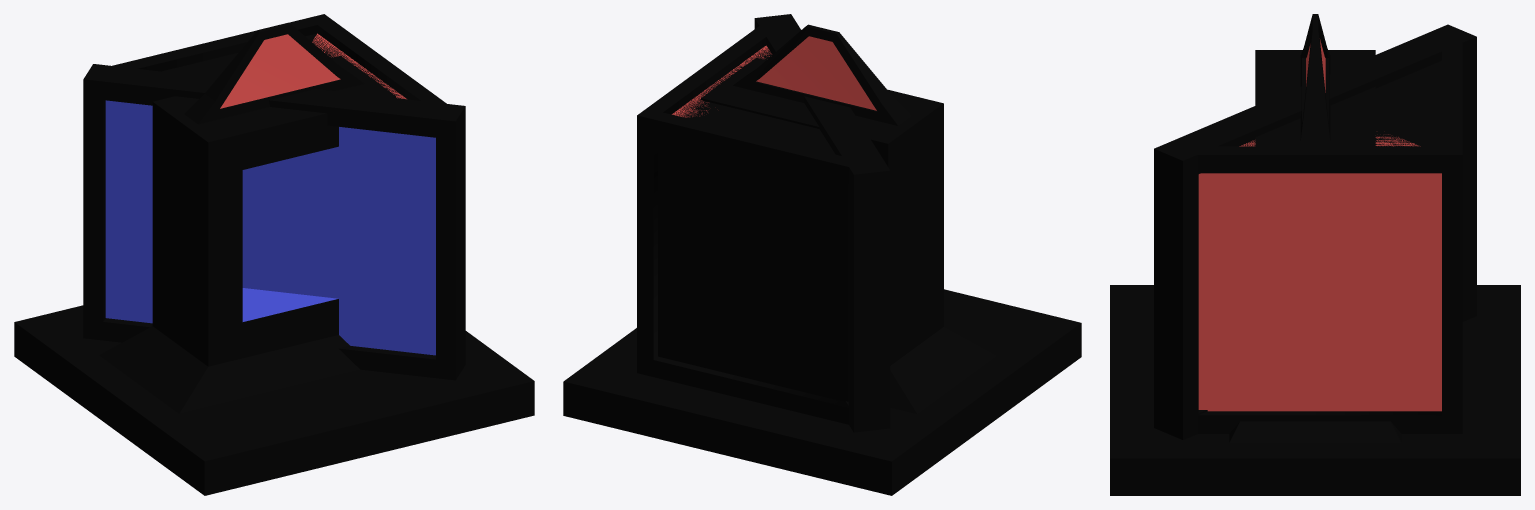
File: Lasers.fbx
3 views of the same model, side by side, from view 1: azimuth 30°, elevation 25°; view 2: azimuth 150°, elevation 25°; view 3: azimuth 270°, elevation 25° (orthographic). The views are drawn at different scales.
Parts seen in each view (by area): view 1: Double, Gate, MirrorReceiver, Mirror; view 2: MirrorReceiver, Gate, Double, Mirror; view 3: MirrorReceiver, Double, Gate, Mirror.
Part boxes in pixels (x1=…): Double: x1=74, y1=64, x2=534, y2=495; Gate: x1=14, y1=22, x2=396, y2=494; MirrorReceiver: x1=14, y1=14, x2=516, y2=495; Mirror: x1=162, y1=34, x2=405, y2=98; MirrorReceiver: x1=564, y1=16, x2=1081, y2=495; Gate: x1=574, y1=24, x2=1081, y2=493; Double: x1=563, y1=14, x2=1081, y2=495; Mirror: x1=672, y1=45, x2=834, y2=153; MirrorReceiver: x1=1110, y1=30, x2=1520, y2=495; Double: x1=1110, y1=24, x2=1520, y2=495; Gate: x1=1110, y1=14, x2=1520, y2=495; Mirror: x1=1240, y1=60, x2=1441, y2=146.
Size of what is drawn, in the model's own units: 200 by 208 by 200.
